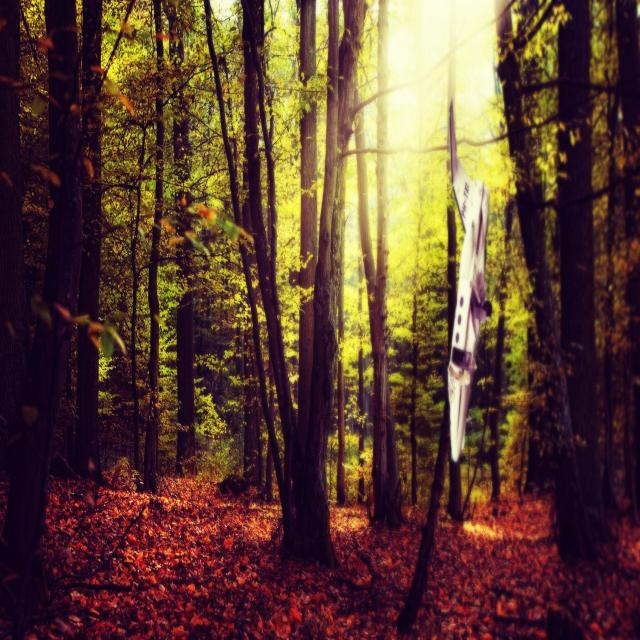airplane: (446, 98, 492, 463)
